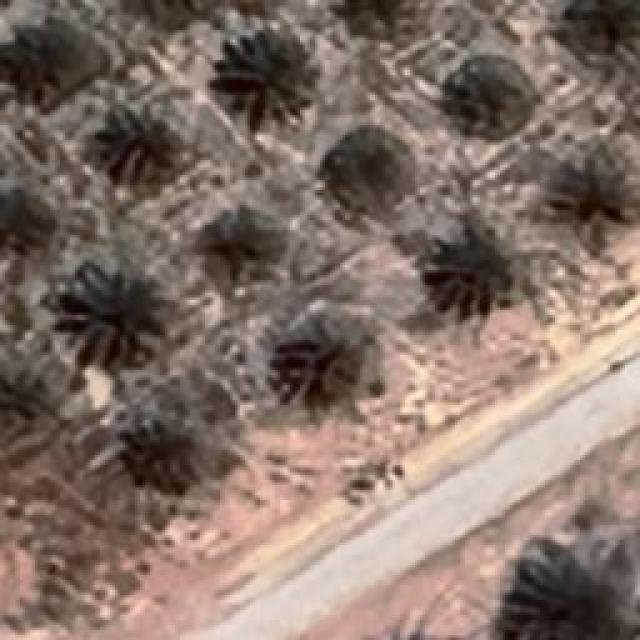PalmTree: (81, 19, 568, 586), (215, 28, 318, 130), (59, 265, 162, 365), (270, 315, 382, 403), (126, 404, 226, 498), (445, 48, 530, 148), (430, 222, 518, 312), (556, 146, 629, 252), (338, 120, 412, 218), (100, 104, 178, 188), (201, 212, 284, 286), (8, 28, 88, 96), (0, 346, 63, 430), (0, 182, 56, 258), (575, 0, 640, 65), (120, 0, 214, 26), (119, 0, 218, 17)
